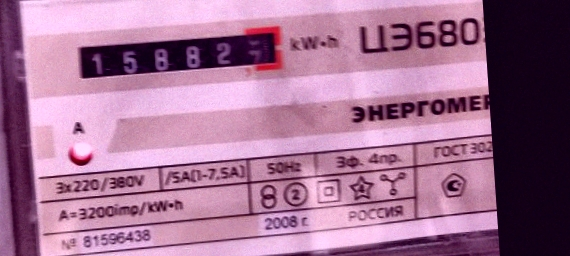1: (89, 50, 105, 76)
2: (214, 39, 232, 66)
5: (120, 48, 138, 74)
7: (246, 47, 261, 64)
8: (151, 46, 169, 71), (183, 42, 200, 68)
screen: (64, 18, 293, 93)
